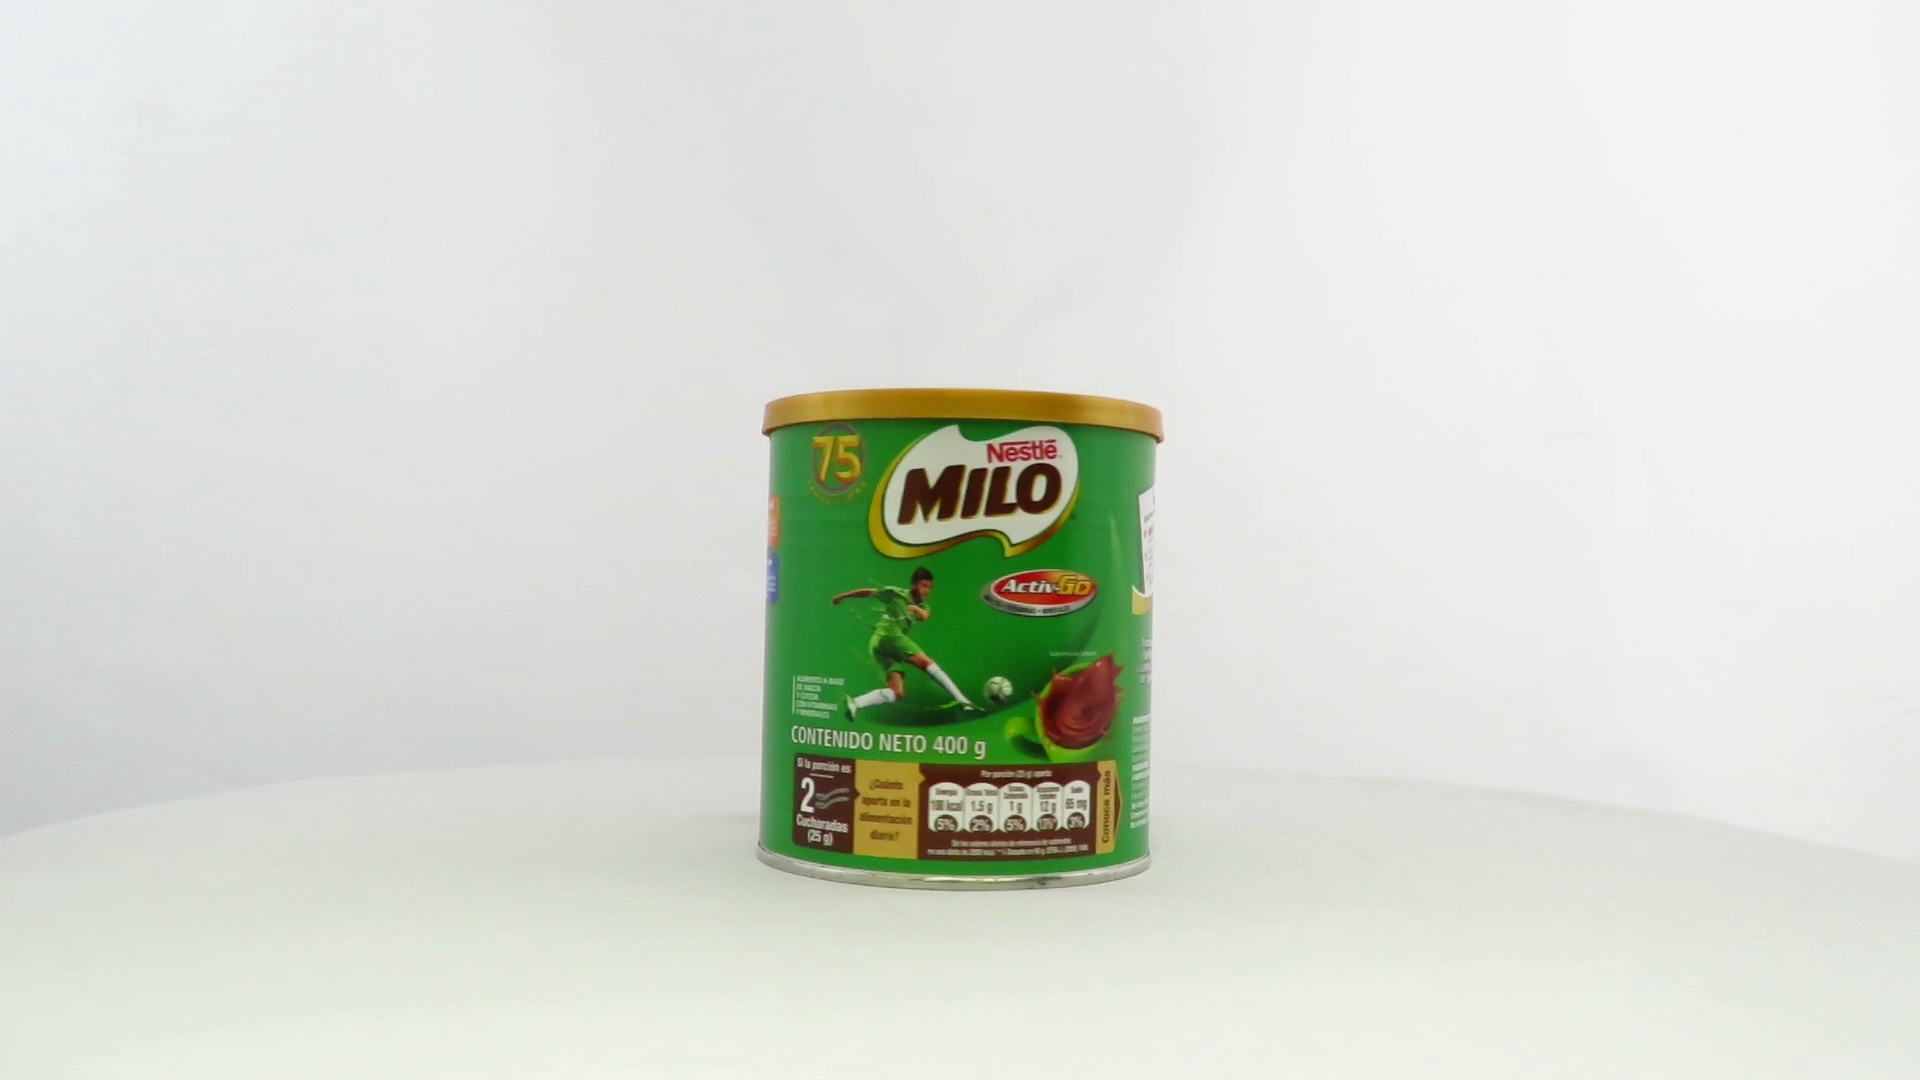COL0170203LAT40000: (750, 382, 1170, 898)
